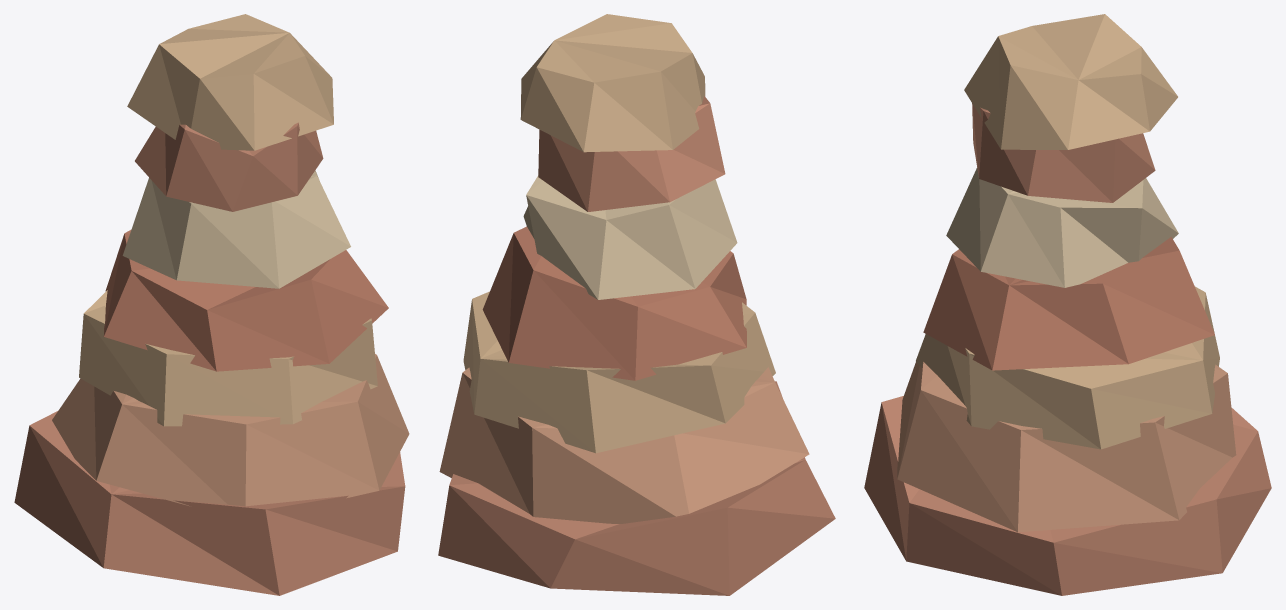
File: tarhut_arenito_2.glb
3 views of the same model, side by side, from view 1: azimuth 30°, elevation 25°; view 2: azimuth 150°, elevation 25°; view 3: azimuth 270°, elevation 25° (orthographic).
Parts seen in each view (by area): view 1: arenito; view 2: arenito; view 3: arenito.
Part boxes in pixels (x1,y1,x2,y2): arenito: (14, 14, 409, 595); arenito: (438, 14, 835, 595); arenito: (864, 14, 1271, 595).
Bounding box in the file's own units: 1.79 × 2.48 × 1.91.
